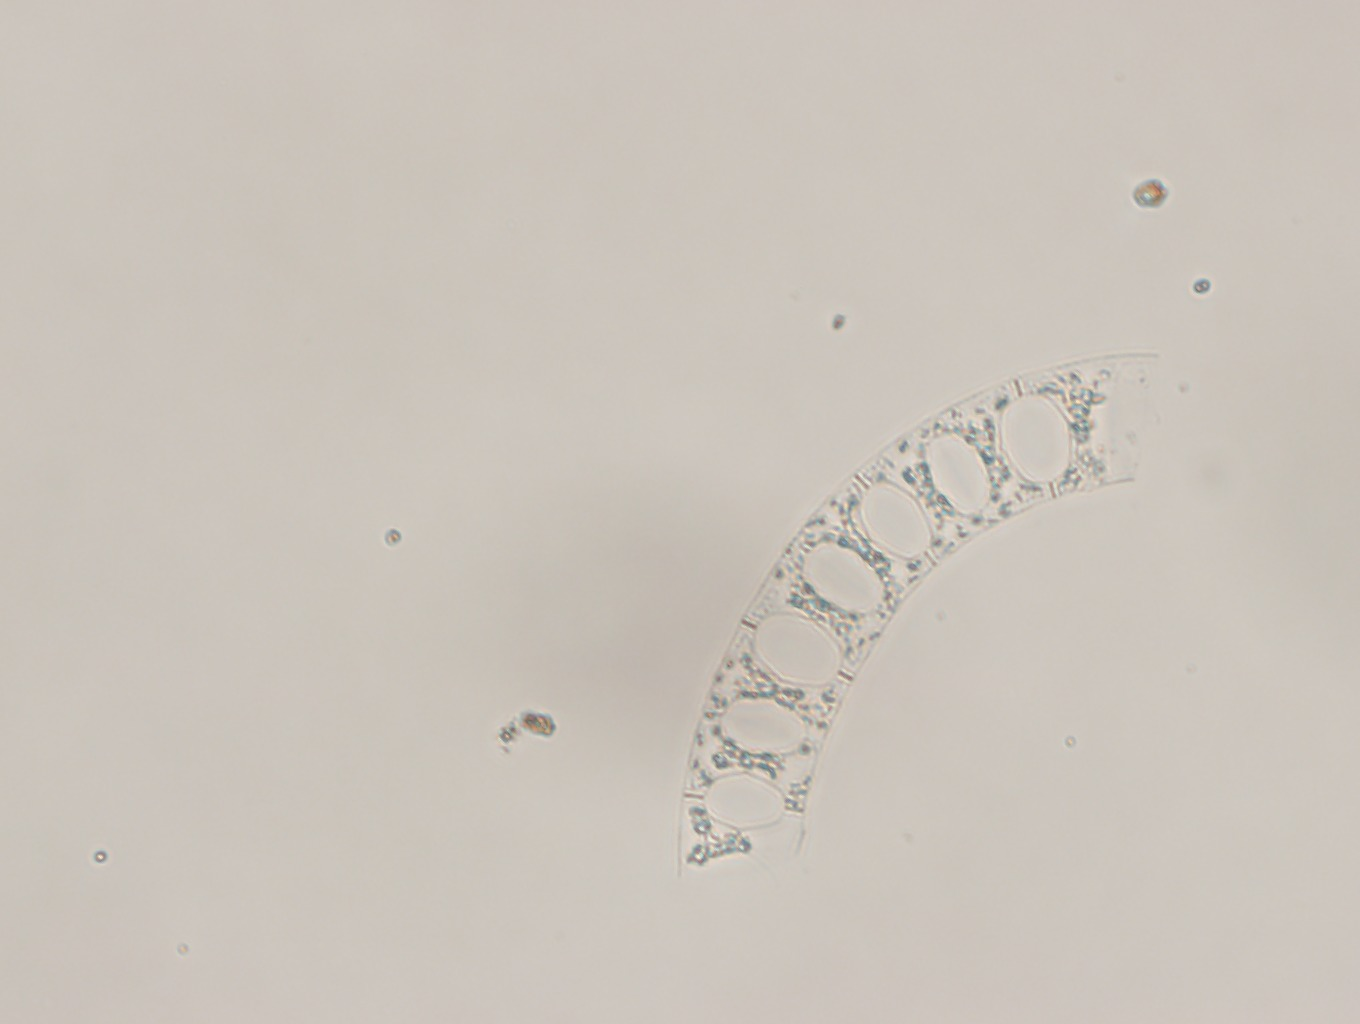eucampia: (669, 345, 1163, 898)
